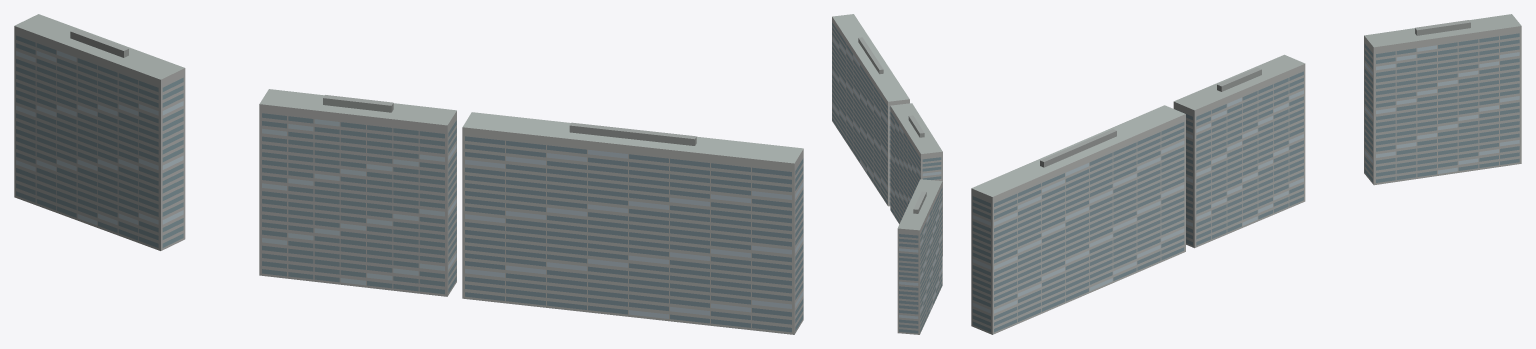
File: apt-a14090902.glb
The picture shows the model from 3 angles, left to right: view 1: azimuth 30°, elevation 25°; view 2: azimuth 150°, elevation 25°; view 3: azimuth 270°, elevation 25°; orthographic projection. The views are drawn at different scales.
Visible parts, largest first — view 1: apt-a14090902; view 2: apt-a14090902; view 3: apt-a14090902.
Part boxes in pixels (x1=…): apt-a14090902: x1=14, y1=14, x2=803, y2=334; apt-a14090902: x1=832, y1=14, x2=942, y2=334; apt-a14090902: x1=971, y1=14, x2=1521, y2=334.
Size of the model in its own units: 170 by 62 by 216.
